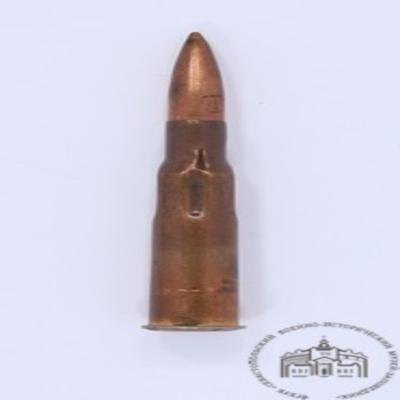weapon: (141, 32, 245, 333)
